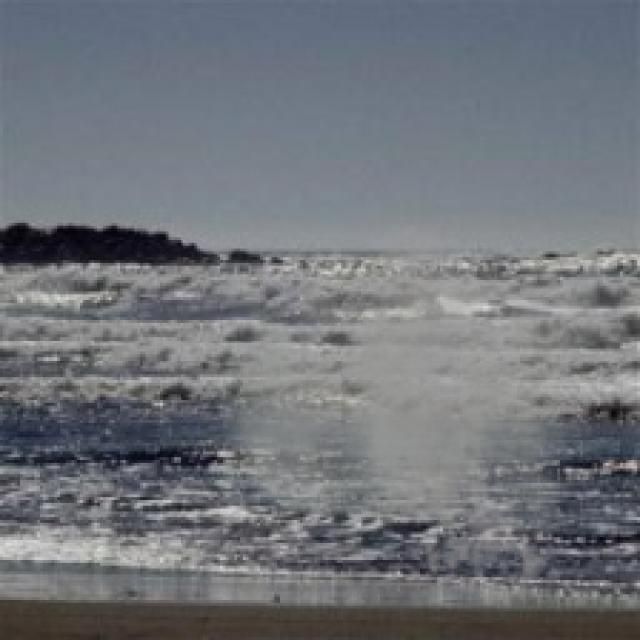smoke: (214, 209, 600, 600)
